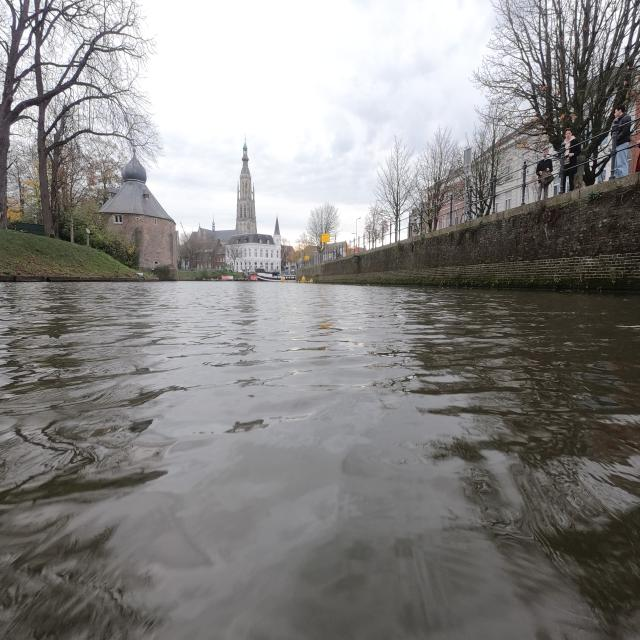grass: (8, 230, 142, 278)
sky: (140, 4, 482, 242)
tree: (37, 101, 57, 237), (35, 22, 44, 98)
wall: (292, 174, 636, 286)
water: (8, 290, 638, 634)
